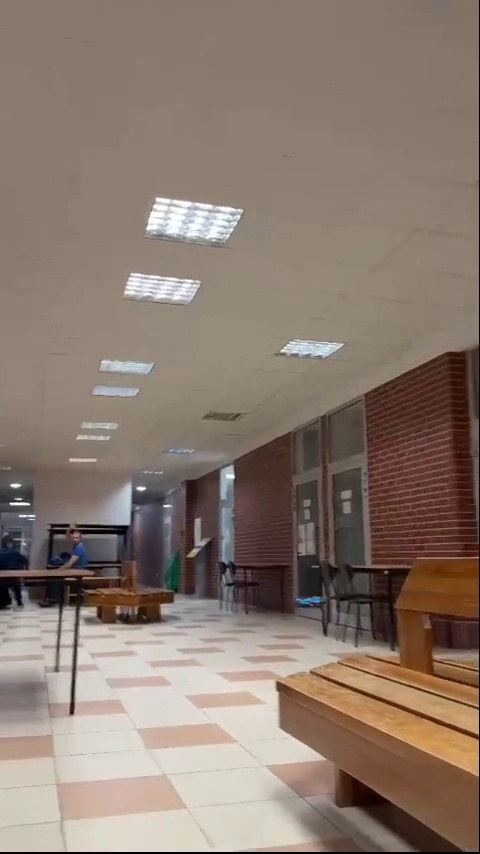drone: (294, 596, 323, 610)
no vest: (48, 525, 85, 581)
